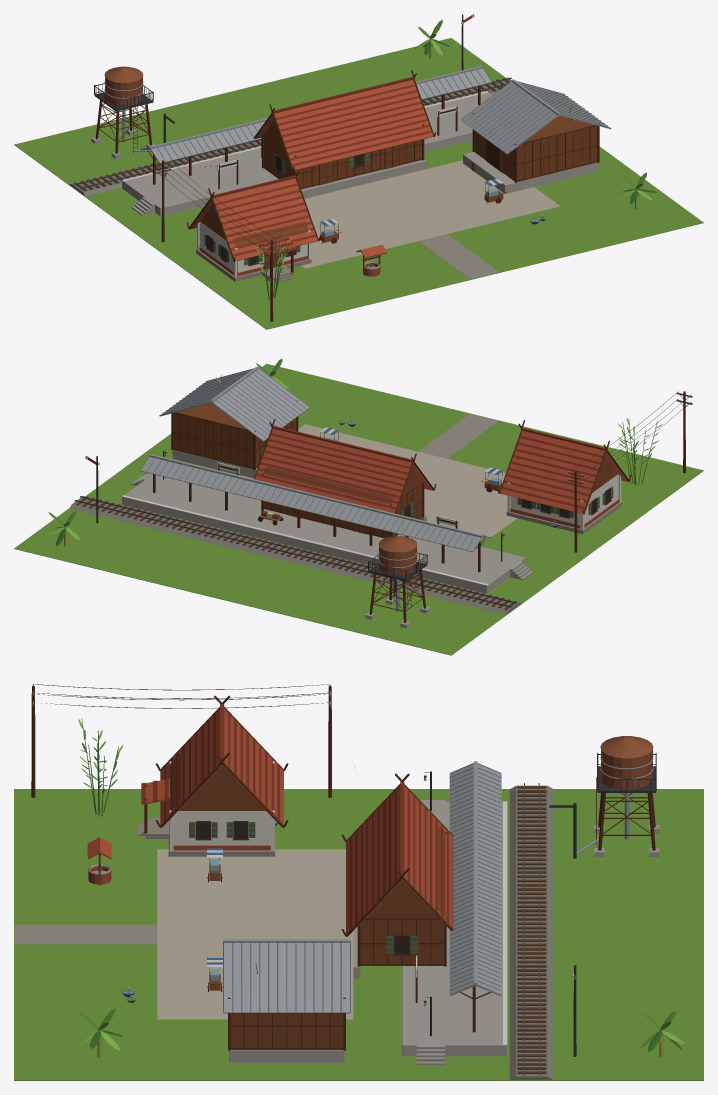
File: station.glb
3 views of the same model, one above another, from view 1: azimuth 30°, elevation 25°; view 2: azimuth 150°, elevation 25°; view 3: azimuth 270°, elevation 25° (orthographic). The views are drawn at different scales.
Parts seen in each view (by area): view 1: body; view 2: body; view 3: body, windows.
Boxes of the visible parts, bbox=[...] form: body: bbox=[14, 14, 703, 329]; body: bbox=[14, 358, 703, 655]; body: bbox=[14, 684, 703, 1080]; windows: bbox=[197, 777, 573, 1005].
Bounding box in the file's own units: 47.9 × 8.78 × 47.9.
